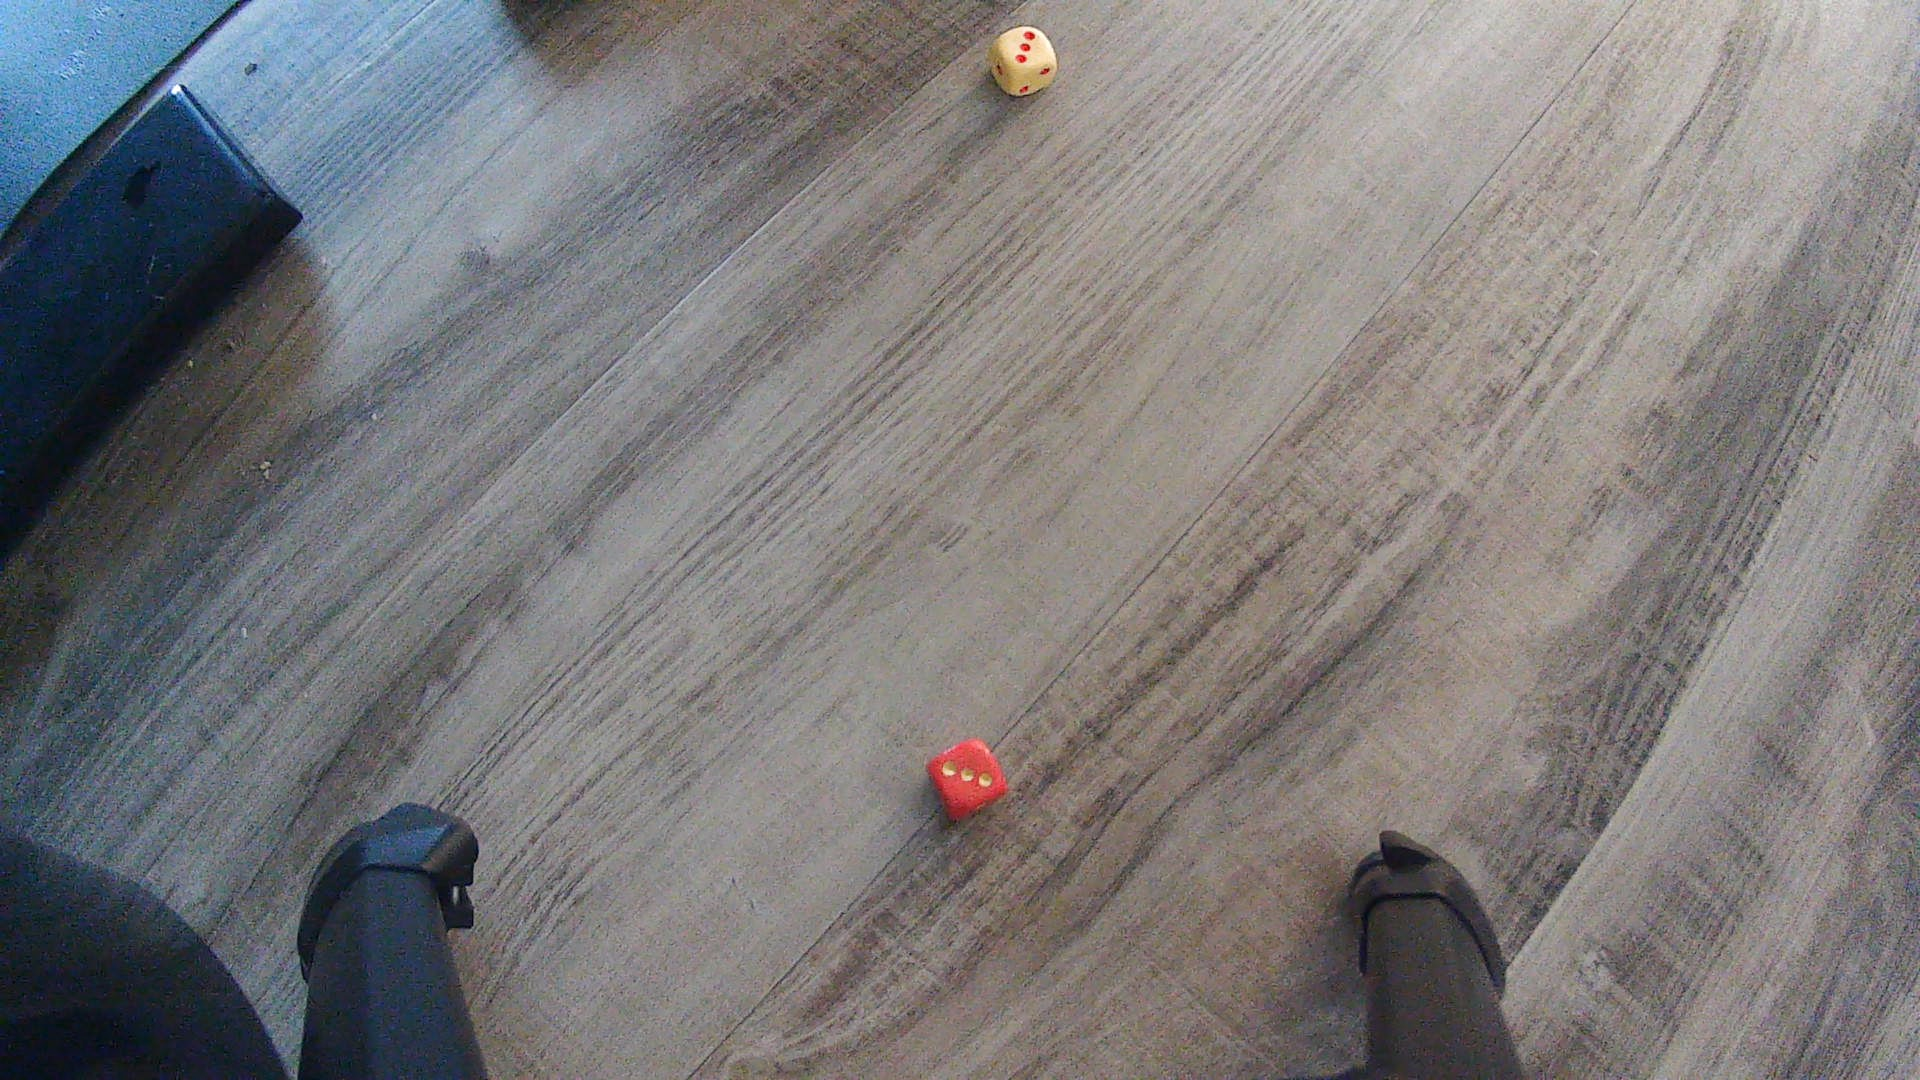die: (924, 736, 1010, 823), (988, 25, 1060, 98)
